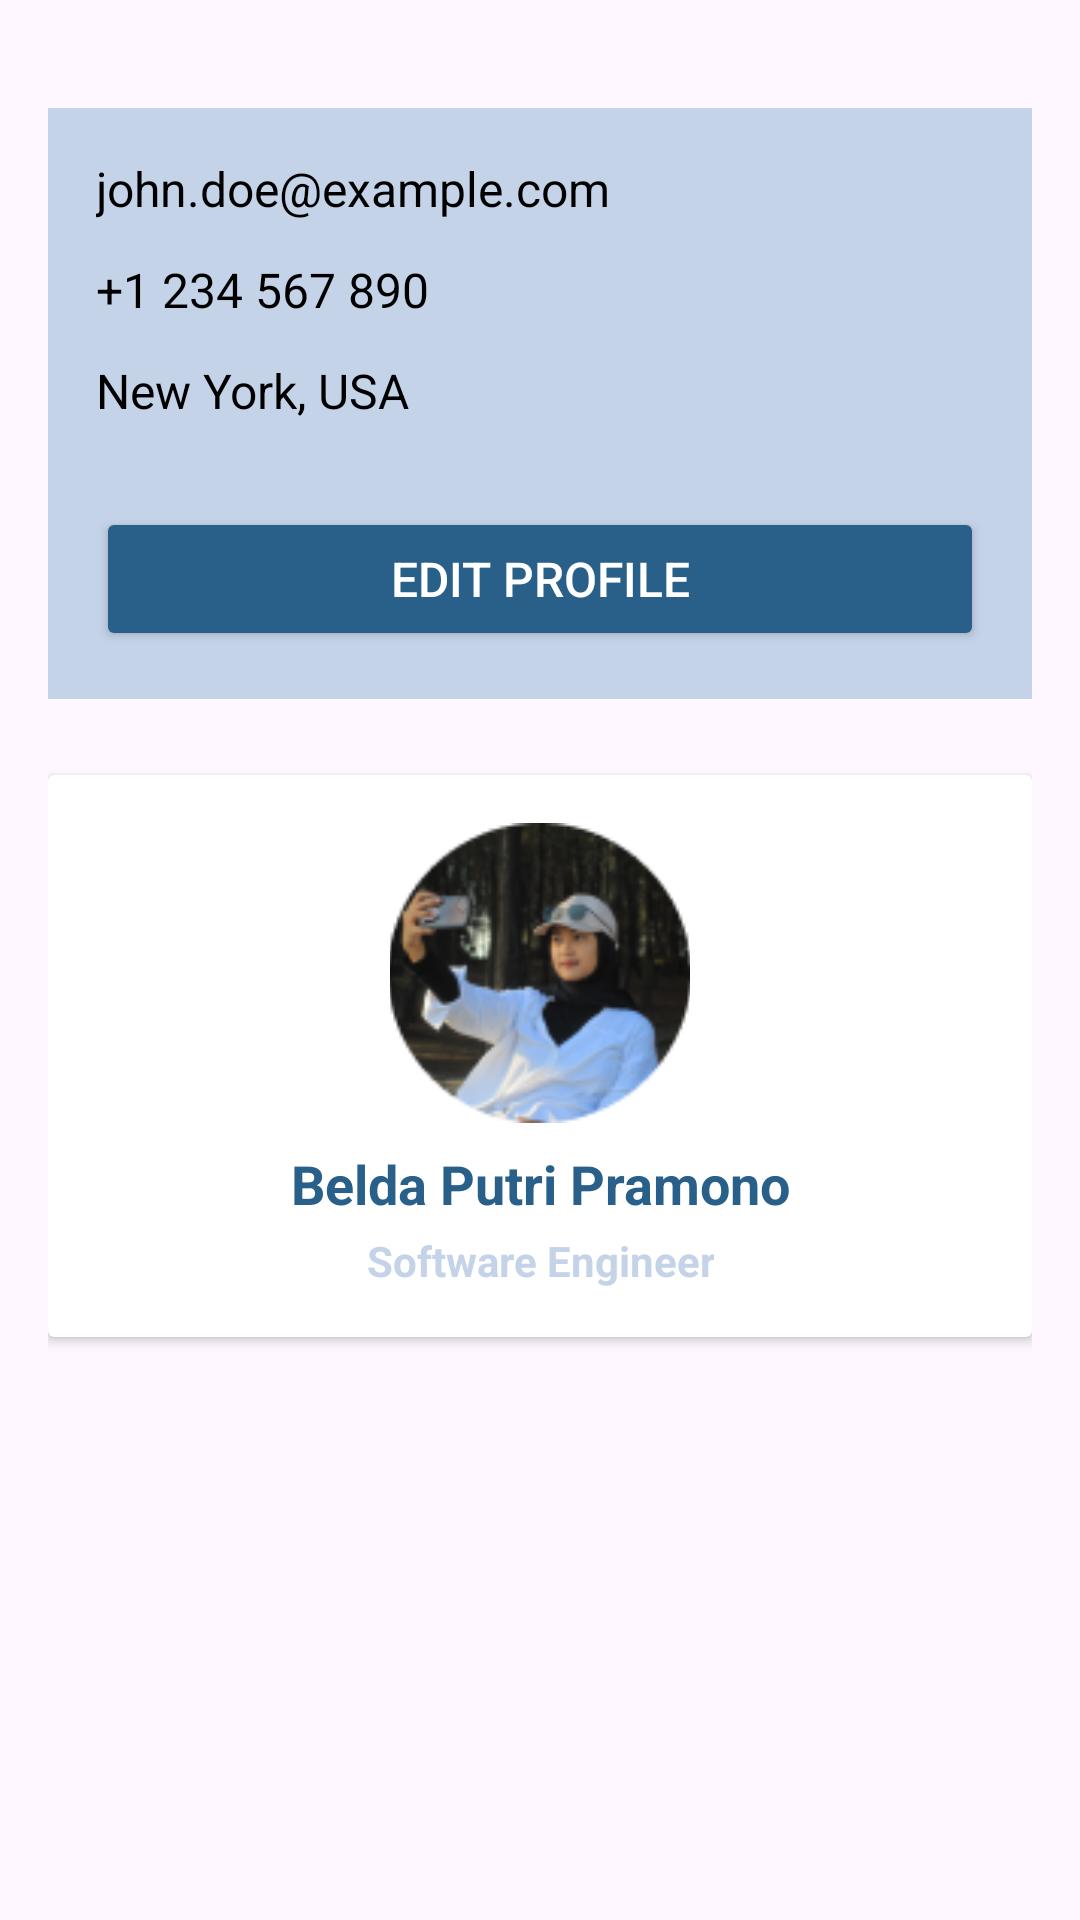

Where to tap for icons on this 1080*1920 app screen, as (x=x, y=y):
Profile Description: (x=540, y=973)
